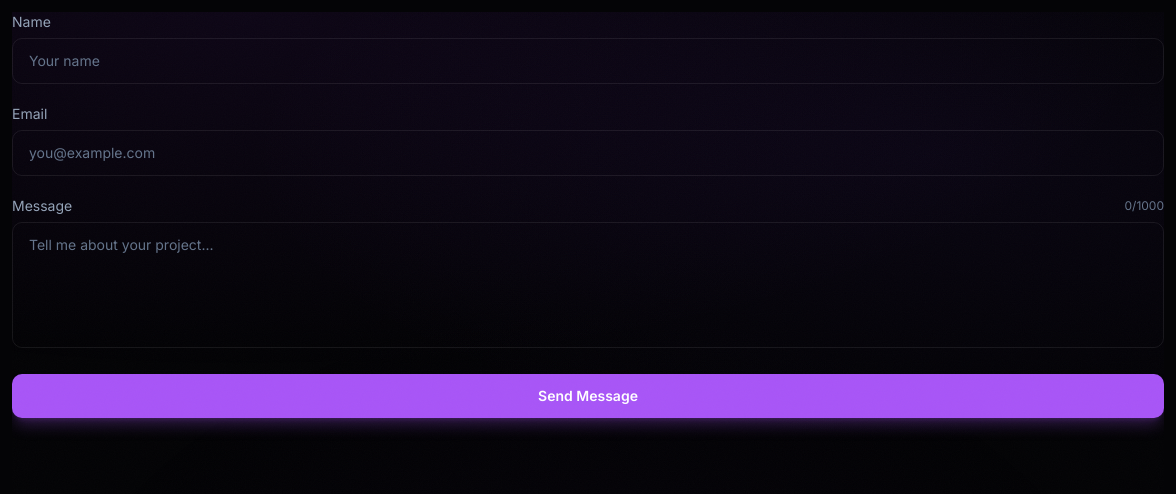
Test: ContactForm › shows validation error for invalid email format
The image size is (1176, 494).
Step 1. Type "Jane" into the field labelled "Name" → point(588, 61), box [12,38,1164,84]
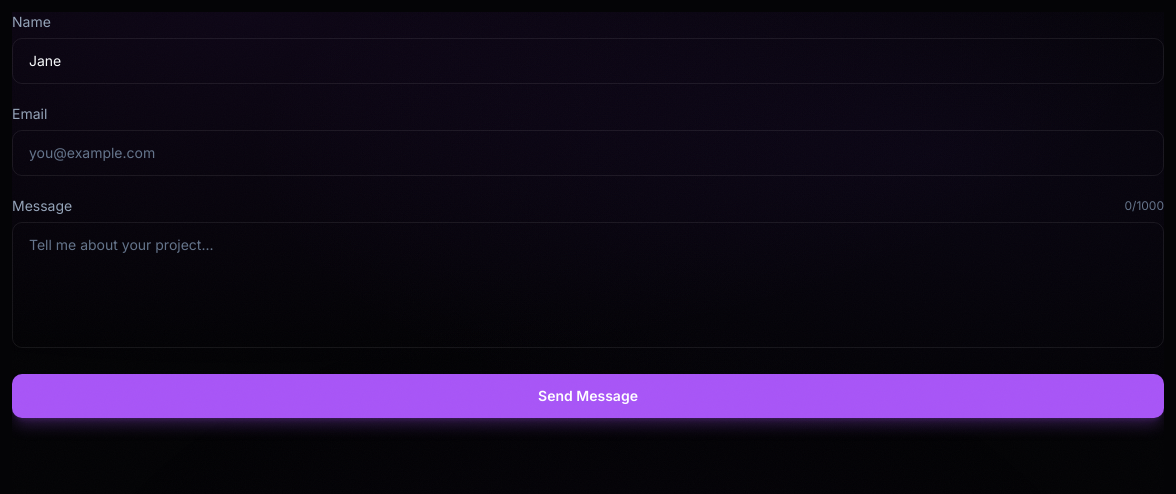
Step 2. Type "not-an-email" into the field labelled "Email" → point(588, 153), box [12,130,1164,176]
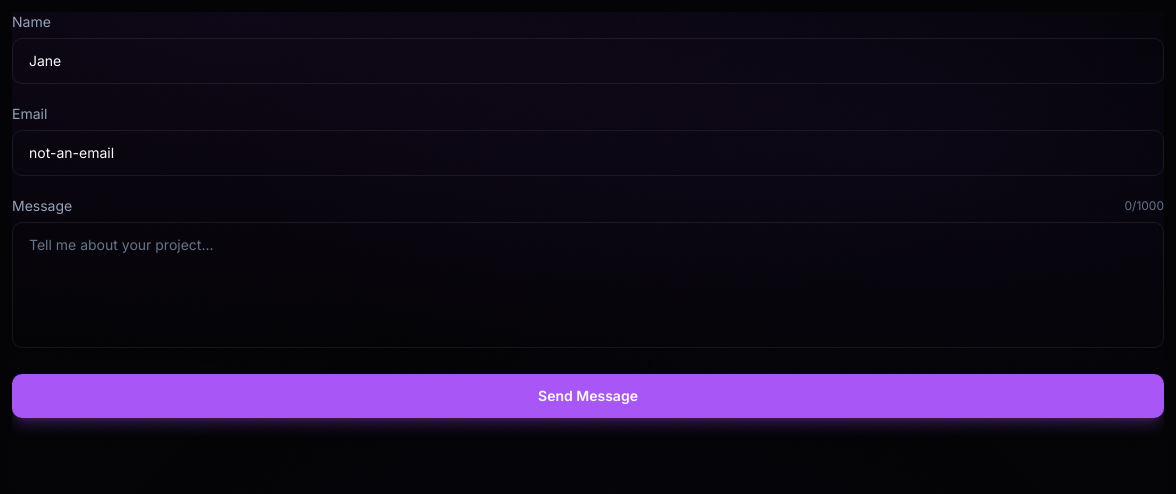
Step 3. Click the button "Send Message" → point(588, 396), box [12,374,1164,418]
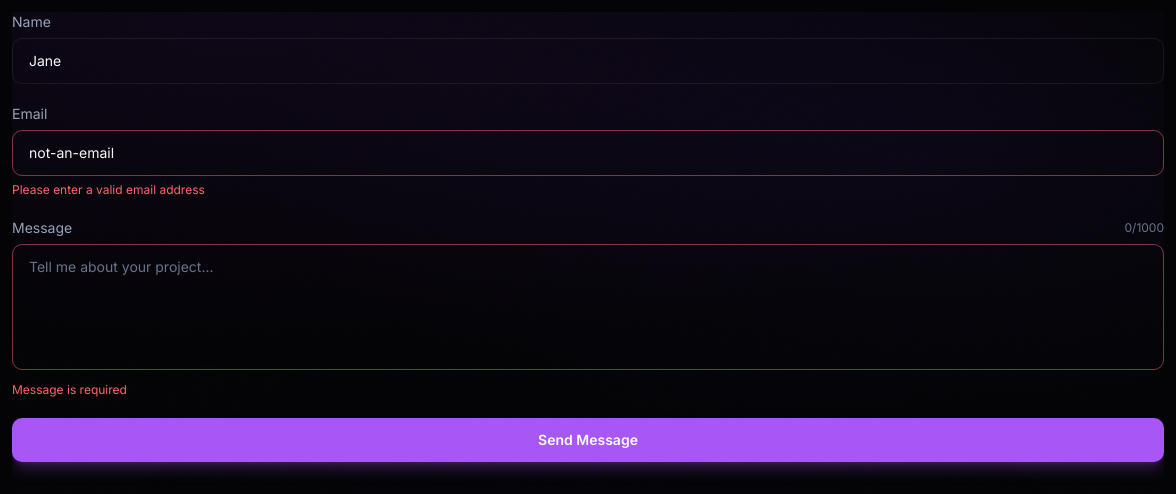
Result: the text with test id "email-error" reads "Please enter a valid email address" at [12,182,205,197]
